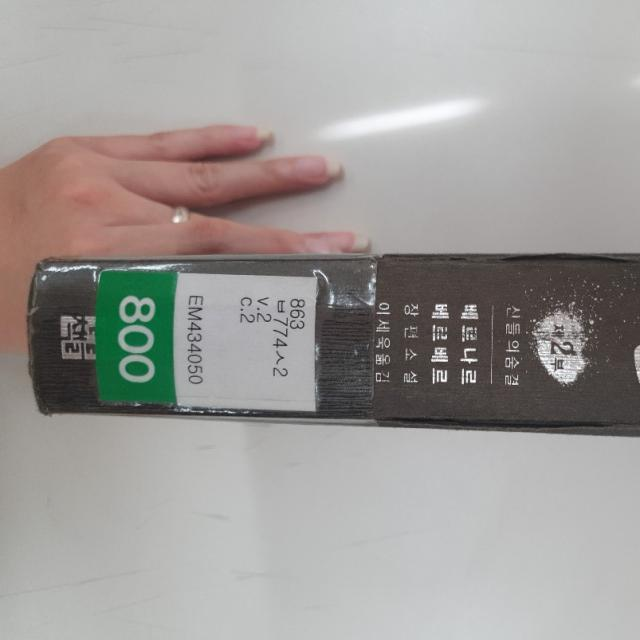Ripped: (380, 408, 639, 442), (389, 247, 639, 275)
